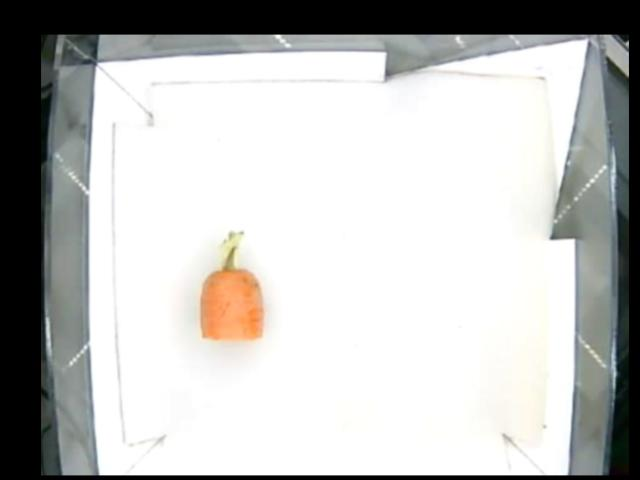Carrot: (198, 229, 264, 340)
